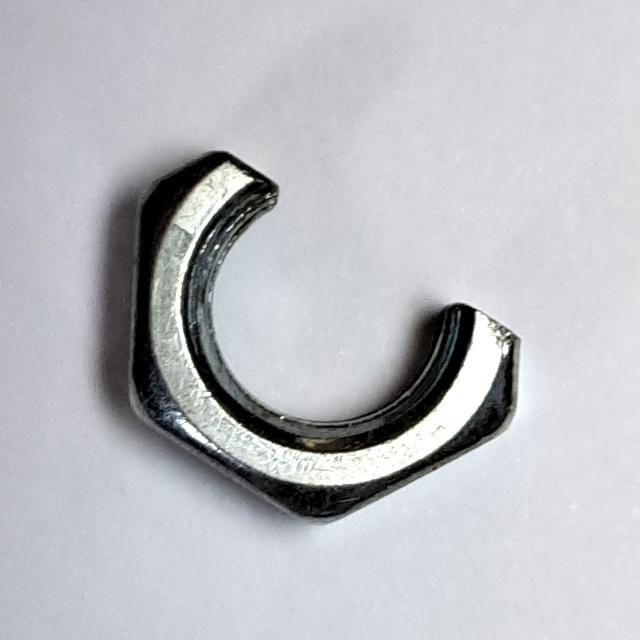Fracture: (111, 128, 542, 550)
